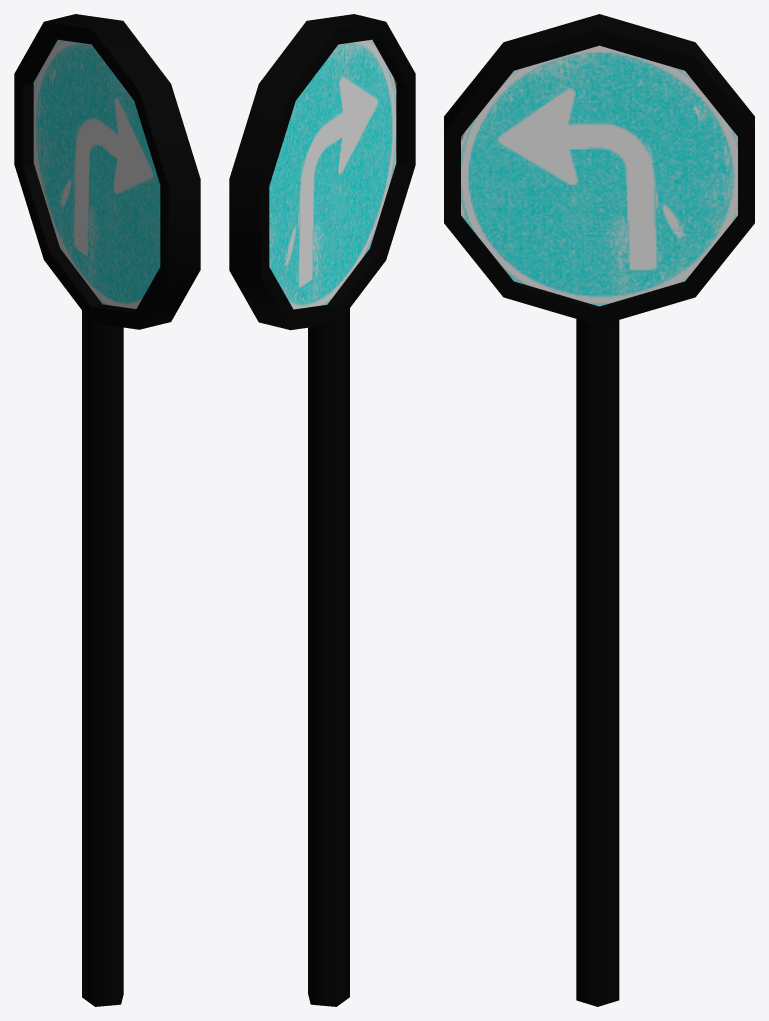
The model's file is sign30.FBX.
3 views of the same model, side by side, from view 1: azimuth 30°, elevation 25°; view 2: azimuth 150°, elevation 25°; view 3: azimuth 270°, elevation 25° (orthographic).
Visible parts, largest first — view 1: Cylinder002; view 2: Cylinder002; view 3: Cylinder002.
Part boxes in pixels (x1,y1,x2,y2): Cylinder002: (14,14,200,1006); Cylinder002: (229,14,415,1006); Cylinder002: (444,14,754,1006).
Bounding box in the file's own units: 3.3 × 85.76 × 24.7.
